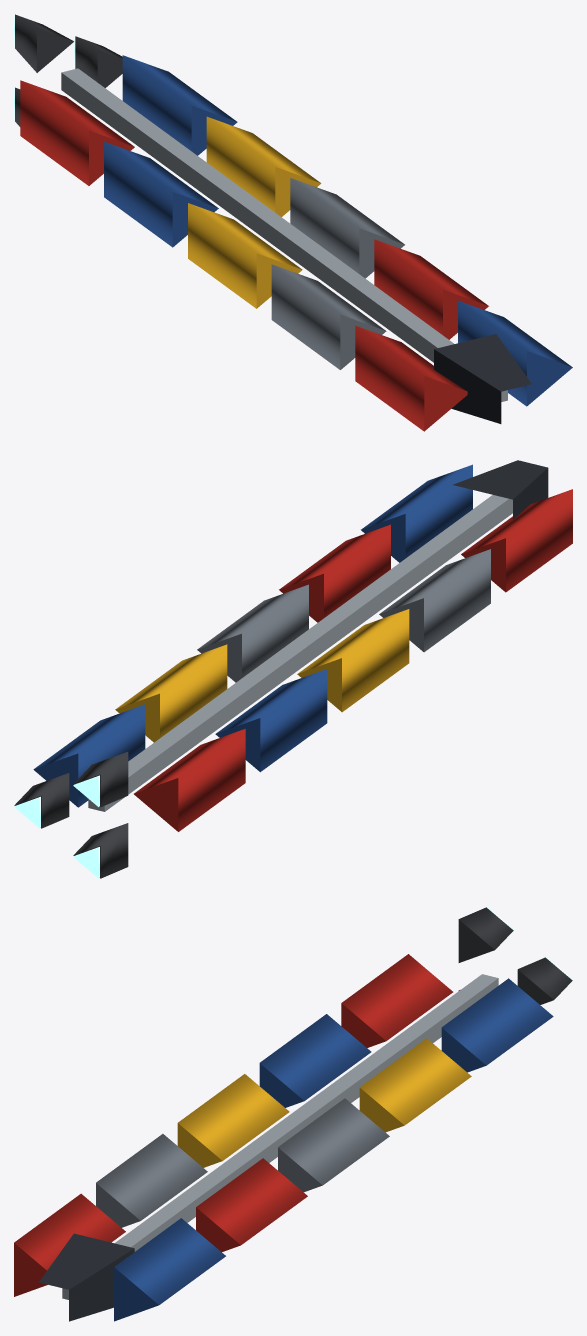
File: space_ship_logistics_mk4_lod2.glb
3 renders of one model, top to bottom at view 1: azimuth 30°, elevation 25°; view 2: azimuth 150°, elevation 25°; view 3: azimuth 330°, elevation 25°, orthographic. The views are drawn at different scales.
Parts seen in each view (by area): view 1: body, pod_4_0, pod_3_0, pod_0_0, pod_1_0, pod_2_0, pod_0_1, pod_1_1, pod_2_1, pod_3_1, pod_4_1, engine_1 (+1 smaller); view 2: body, pod_0_0, pod_2_0, pod_1_0, pod_3_0, pod_4_0, pod_1_1, pod_3_1, pod_2_1, pod_4_1, pod_0_1, engine_0 (+2 smaller); view 3: body, pod_4_1, pod_2_0, pod_1_1, pod_0_1, pod_1_0, pod_0_0, pod_3_1, pod_2_1, pod_3_0, pod_4_0, engine_1 (+1 smaller).
Part boxes in pixels (x1,y1,x2,y2): body: (61,68,531,423); pod_4_0: (355,325,467,431); pod_3_0: (271,264,386,369); pod_0_0: (20,80,134,185); pod_1_0: (104,141,218,247); pod_2_0: (188,203,302,308); pod_0_1: (122,55,237,155); pod_1_1: (206,116,321,216); pod_2_1: (290,178,404,278); pod_3_1: (374,239,488,339); pod_4_1: (458,300,572,406); engine_1: (14,14,73,72); body: (88,460,548,811); pod_0_0: (134,728,245,831); pod_2_0: (297,609,409,712); pod_1_0: (215,669,327,772); pod_3_0: (379,549,490,652); pod_4_0: (461,489,572,592); pod_1_1: (115,644,227,742); pod_3_1: (279,524,390,622); pod_2_1: (197,584,308,682); pod_4_1: (361,464,472,562); pod_0_1: (33,704,145,807); engine_0: (14,773,69,828); body: (39,974,498,1321); pod_4_1: (114,1218,225,1321); pod_2_0: (177,1074,289,1167); pod_1_1: (359,1038,471,1132); pod_0_1: (441,978,553,1072); pod_1_0: (259,1014,371,1107); pod_0_0: (341,954,453,1047); pod_3_1: (196,1158,307,1251); pod_2_1: (278,1098,389,1192); pod_3_0: (96,1134,207,1227); pod_4_0: (14,1193,125,1296); engine_1: (458,907,513,962).
Size of the model in its own units: 7.06 by 5.36 by 38.98.
